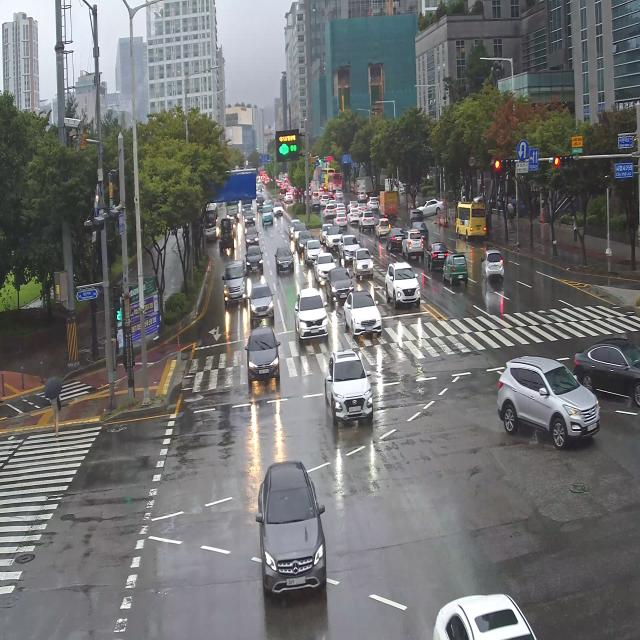Bus: (453, 195, 489, 242), (201, 201, 220, 247), (325, 170, 345, 192), (320, 168, 333, 188)
Car: (478, 338, 606, 453), (249, 452, 333, 606), (575, 315, 640, 418), (321, 348, 380, 430), (240, 326, 290, 387), (291, 274, 330, 350), (381, 250, 425, 313), (340, 280, 384, 340), (216, 250, 252, 313), (248, 279, 284, 337), (479, 241, 507, 288), (442, 245, 471, 286), (272, 239, 300, 281), (326, 262, 354, 304), (354, 239, 381, 282), (383, 219, 409, 260), (413, 193, 442, 224), (426, 240, 450, 273), (305, 232, 326, 268), (314, 249, 336, 282), (244, 245, 266, 277), (338, 234, 361, 263), (403, 230, 425, 260), (325, 225, 343, 253), (274, 195, 290, 224), (410, 220, 428, 242), (374, 216, 390, 240), (297, 231, 314, 253), (359, 212, 375, 234), (293, 222, 307, 245), (244, 226, 260, 246), (318, 219, 332, 241), (333, 214, 348, 231), (243, 208, 257, 226), (323, 202, 337, 220), (290, 216, 302, 237), (226, 209, 236, 233), (408, 207, 422, 224), (348, 210, 361, 228), (311, 196, 321, 215), (368, 195, 379, 211), (356, 190, 368, 203), (335, 202, 347, 214), (320, 194, 330, 208), (284, 188, 293, 203), (348, 200, 358, 212), (336, 188, 344, 203), (328, 190, 337, 201)
Truck: (215, 212, 235, 256), (378, 186, 399, 222), (225, 197, 241, 225), (384, 175, 404, 197), (356, 173, 375, 193), (261, 202, 274, 227), (240, 191, 253, 213), (256, 192, 266, 210), (311, 180, 319, 192)
